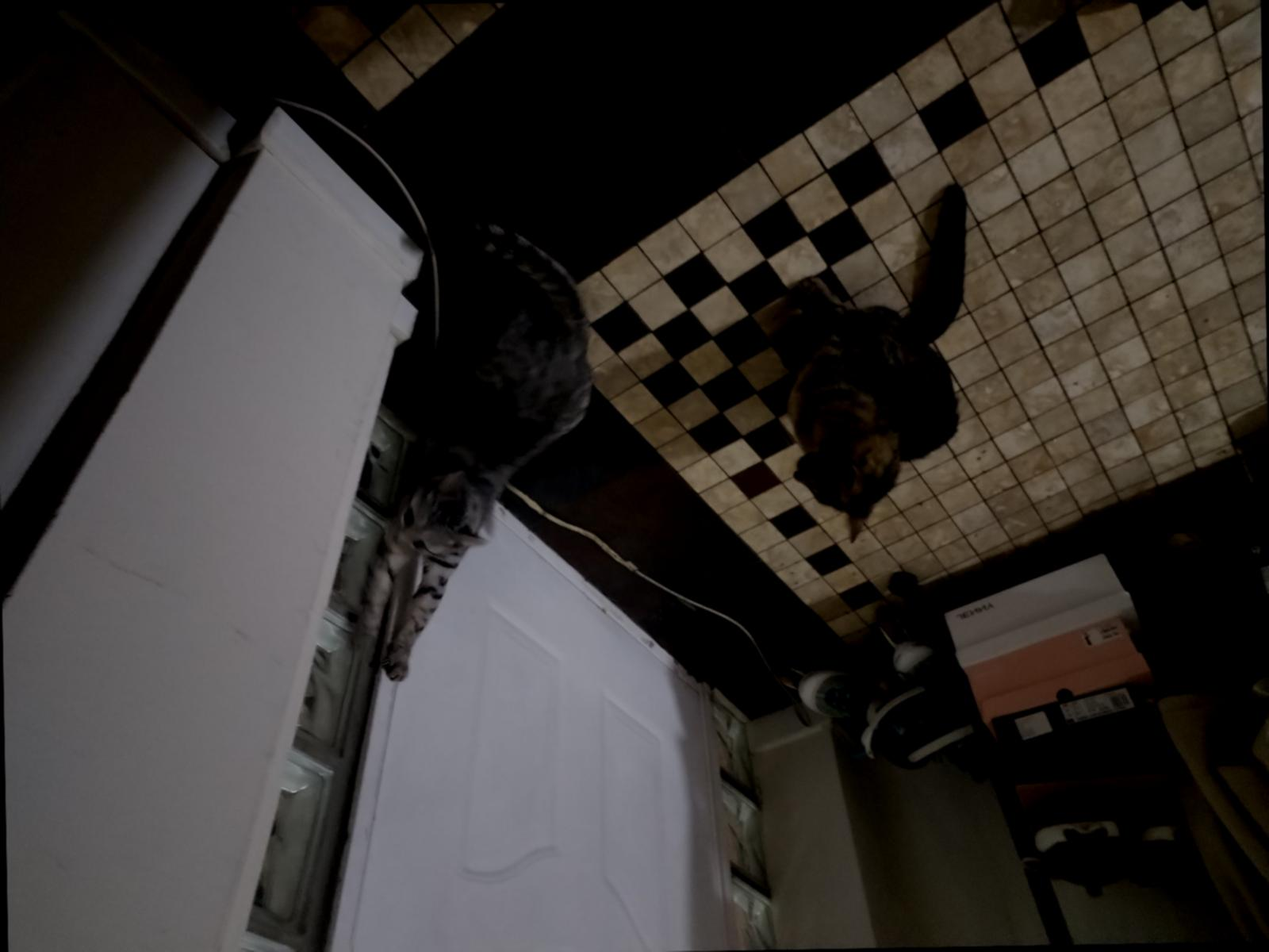macka: (373, 213, 608, 683), (782, 184, 979, 547)
